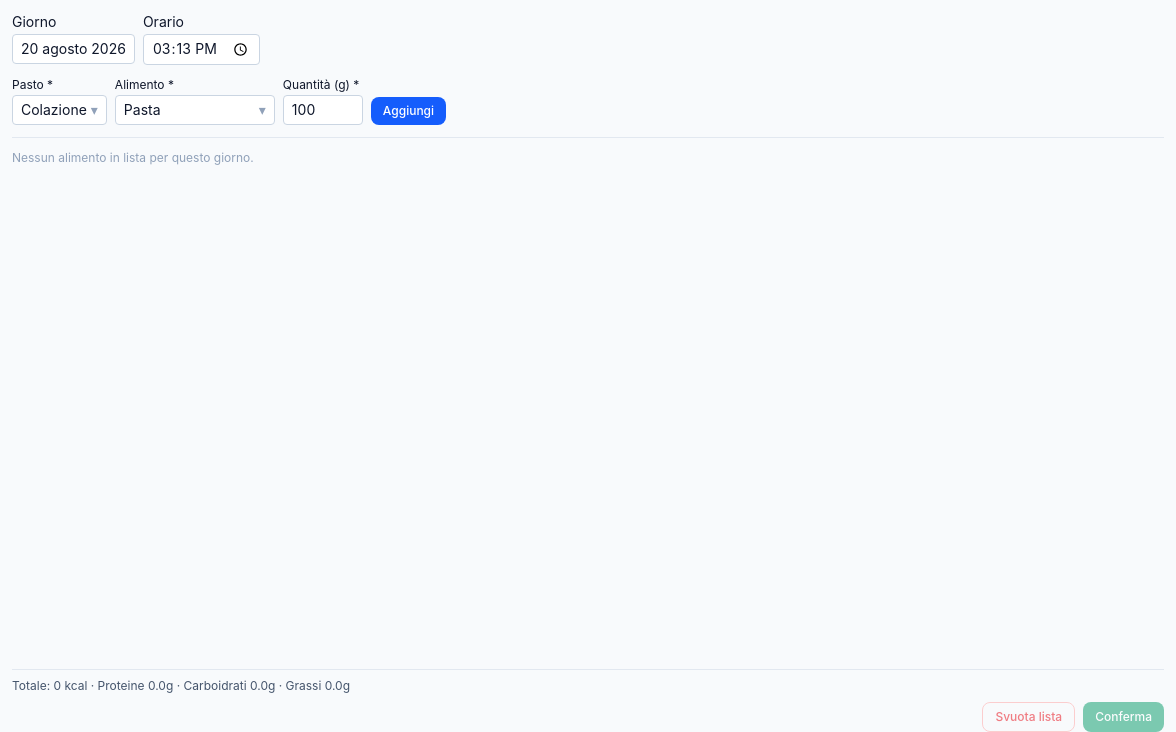
RegistraPastoPanel › RegistraPastoPanel_anteprimaConBozzaPendente_confermaMostraAvvisoSenzaChiamareRegistraVoceDiario
Check: the button named "Pasto *" is shown, box left=12, top=95, right=107, bottom=125
What coordinates should you click on to do the following:
click the button "Aggiungi"
I would click on:
 (408, 111)
Its box is left=371, top=97, right=446, bottom=125.
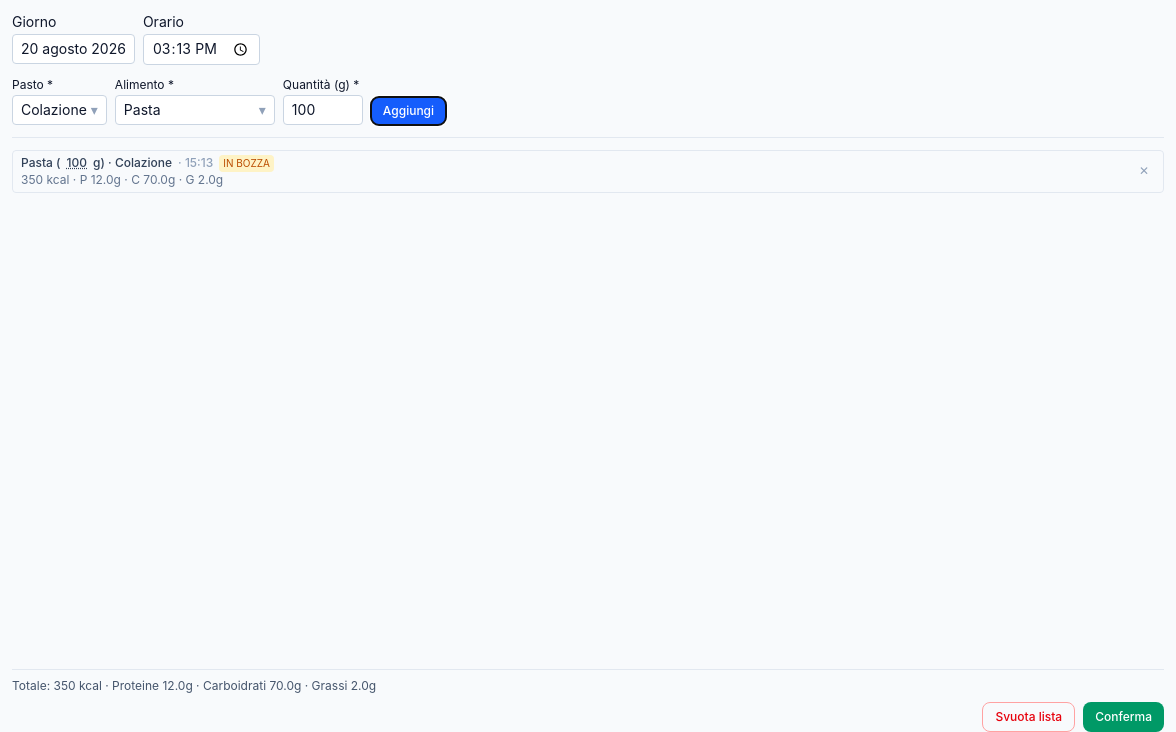
What coordinates should you click on to do the following:
click the button "Conferma"
I would click on:
 (1124, 717)
Its box is left=1083, top=702, right=1164, bottom=731.
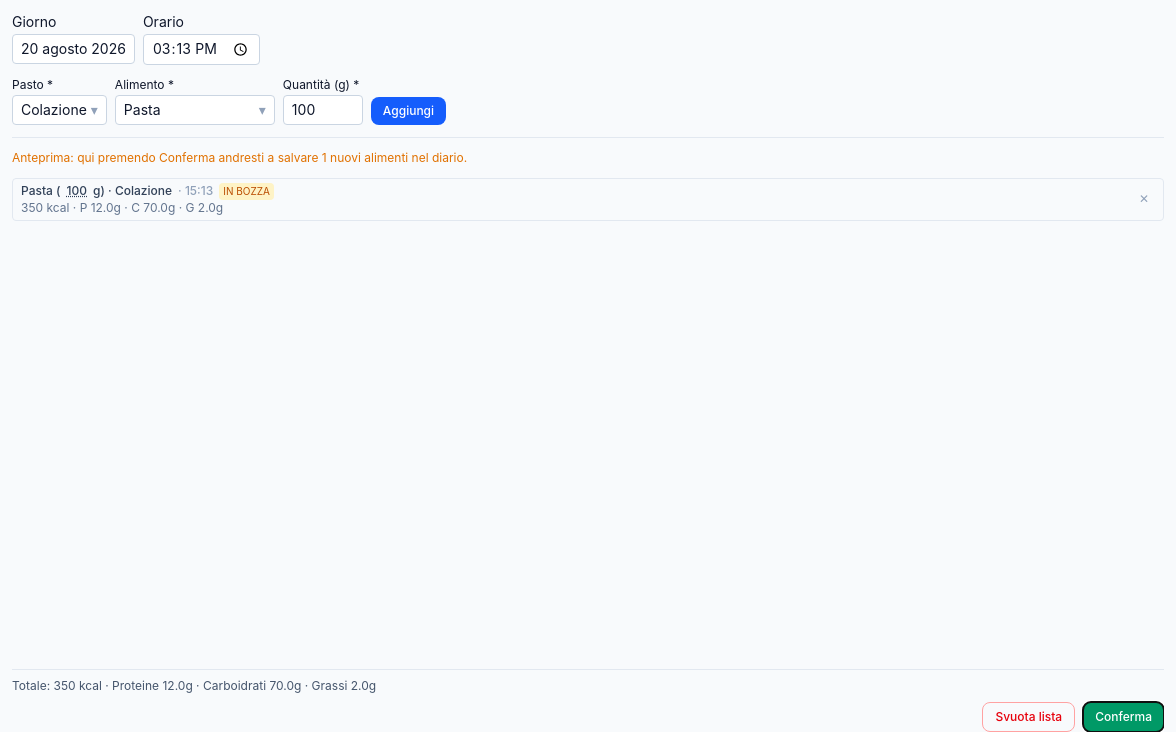
Check: the text "Anteprima:" is shown, box left=12, top=150, right=467, bottom=165
